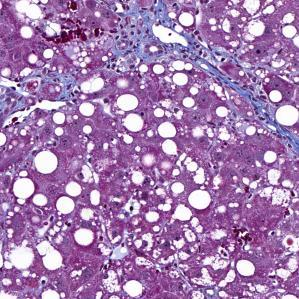fibrosis: (108, 18, 195, 70), (215, 68, 279, 130), (24, 58, 81, 99)
